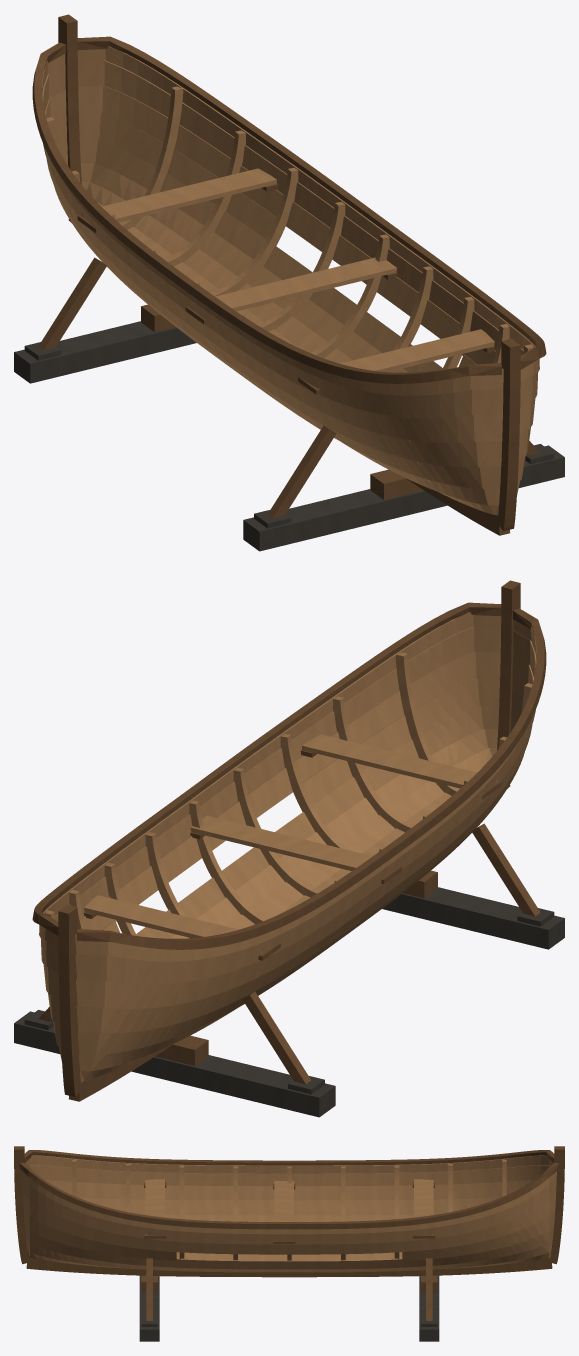
The model's file is ship.glb.
The picture shows the model from 3 angles, top to bottom: view 1: azimuth 30°, elevation 25°; view 2: azimuth 150°, elevation 25°; view 3: azimuth 270°, elevation 25°; orthographic projection. The views are drawn at different scales.
Visible parts, largest first — view 1: hull_strake_05_starboard_0, hull_strake_06_port_0, hull_strake_06_starboard_0, hull_strake_05_port_0, trim_gunwale_port, hull_strake_03_starboard_0, trestle_1_foot, hull_strake_04_port_0, hull_strake_07_starboard_0, trim_gunwale_starboard, hull_strake_02_starboard_0, trestle_0_foot (+21 smaller); view 2: hull_strake_05_starboard_0, hull_strake_06_port_0, hull_strake_06_starboard_0, hull_strake_05_port_0, trim_gunwale_port, hull_strake_03_starboard_0, trestle_0_foot, hull_strake_04_port_0, hull_strake_07_starboard_0, trim_gunwale_starboard, hull_strake_02_starboard_0, trestle_1_foot (+21 smaller); view 3: hull_strake_05_starboard_0, hull_strake_06_starboard_0, hull_strake_06_port_0, hull_strake_05_port_0, hull_strake_03_starboard_0, hull_strake_04_port_0, hull_strake_07_port_0, trim_gunwale_starboard, spine_keel, hull_strake_07_starboard_0, trim_gunwale_port, hull_strake_02_starboard_0 (+18 smaller).
Boxes of the visible parts, <box> form: hull_strake_05_starboard_0: <box>78,85,535,433</box>; hull_strake_06_port_0: <box>42,64,503,418</box>; hull_strake_06_starboard_0: <box>78,60,538,406</box>; hull_strake_05_port_0: <box>45,89,502,442</box>; trim_gunwale_port: <box>32,42,501,383</box>; hull_strake_03_starboard_0: <box>79,139,525,481</box>; trestle_1_foot: <box>243,445,564,551</box>; hull_strake_04_port_0: <box>54,116,502,467</box>; hull_strake_07_starboard_0: <box>77,46,539,381</box>; trim_gunwale_starboard: <box>77,36,546,369</box>; hull_strake_02_starboard_0: <box>81,163,520,494</box>; trestle_0_foot: <box>14,321,196,383</box>; hull_strake_05_starboard_0: <box>43,651,500,999</box>; hull_strake_06_port_0: <box>75,630,536,984</box>; hull_strake_06_starboard_0: <box>40,626,500,972</box>; hull_strake_05_port_0: <box>76,655,533,1008</box>; trim_gunwale_port: <box>77,608,546,949</box>; hull_strake_03_starboard_0: <box>53,705,499,1047</box>; trestle_0_foot: <box>14,1011,335,1117</box>; hull_strake_04_port_0: <box>76,682,524,1033</box>; hull_strake_07_starboard_0: <box>39,612,501,947</box>; trim_gunwale_starboard: <box>32,602,501,935</box>; hull_strake_02_starboard_0: <box>58,729,497,1060</box>; trestle_1_foot: <box>382,887,564,949</box>; hull_strake_05_starboard_0: <box>23,1193,555,1254</box>; hull_strake_06_starboard_0: <box>22,1178,556,1244</box>; hull_strake_06_port_0: <box>28,1165,550,1185</box>; hull_strake_05_port_0: <box>45,1180,533,1200</box>; hull_strake_03_starboard_0: <box>25,1226,553,1269</box>; hull_strake_04_port_0: <box>79,1197,499,1215</box>; hull_strake_07_port_0: <box>25,1155,553,1173</box>; trim_gunwale_starboard: <box>19,1162,559,1229</box>; spine_keel: <box>26,1257,552,1277</box>; hull_strake_07_starboard_0: <box>22,1171,556,1234</box>; trim_gunwale_port: <box>24,1150,554,1165</box>; hull_strake_02_starboard_0: <box>26,1240,552,1272</box>.
Bounding box in the file's own units: 2.6 × 1.98 × 6.66.
Materials: 6 (6 with a texture image).
